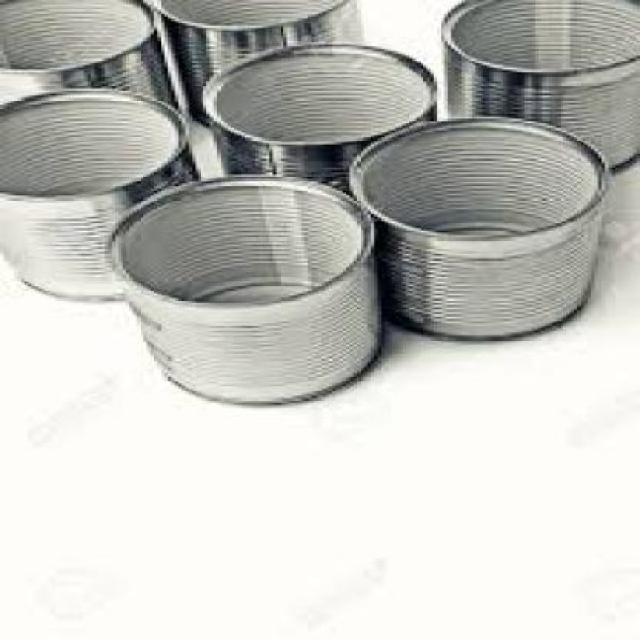METAL: (101, 170, 382, 405), (346, 114, 602, 337), (0, 86, 200, 299), (195, 41, 434, 190), (440, 0, 637, 172), (150, 0, 361, 126), (0, 0, 178, 126)
